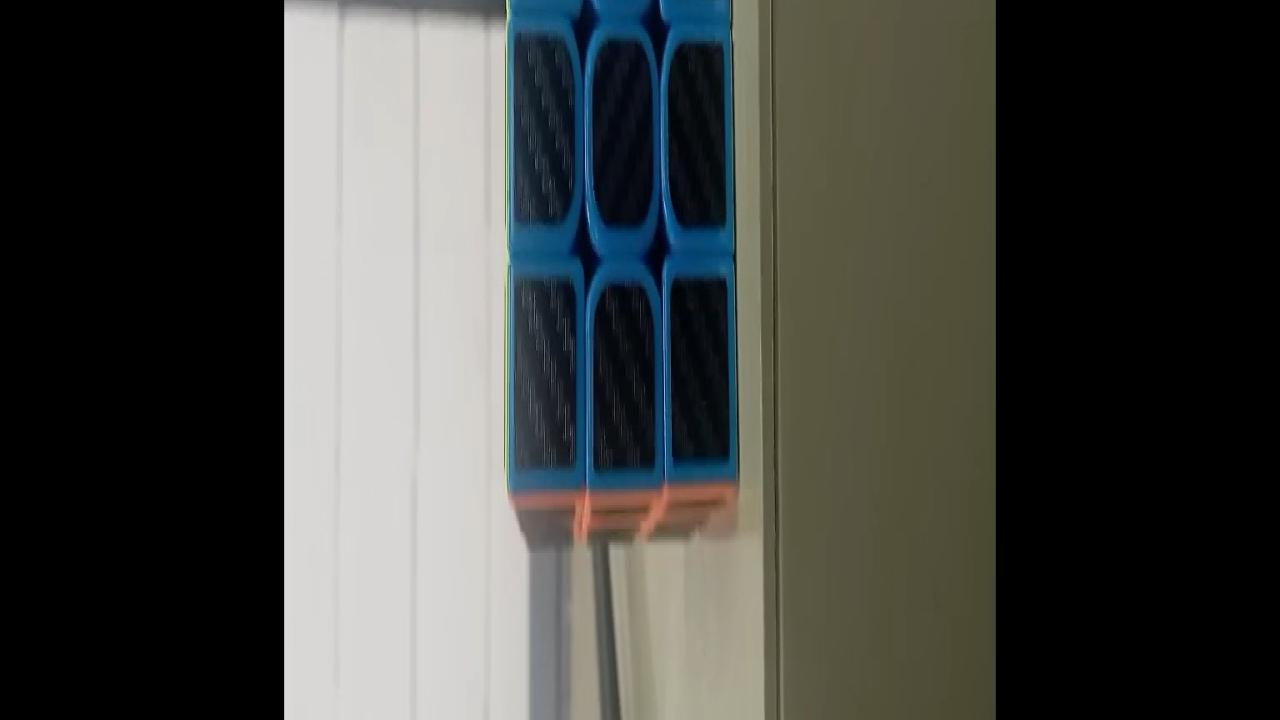Cube: (503, 0, 739, 554)
